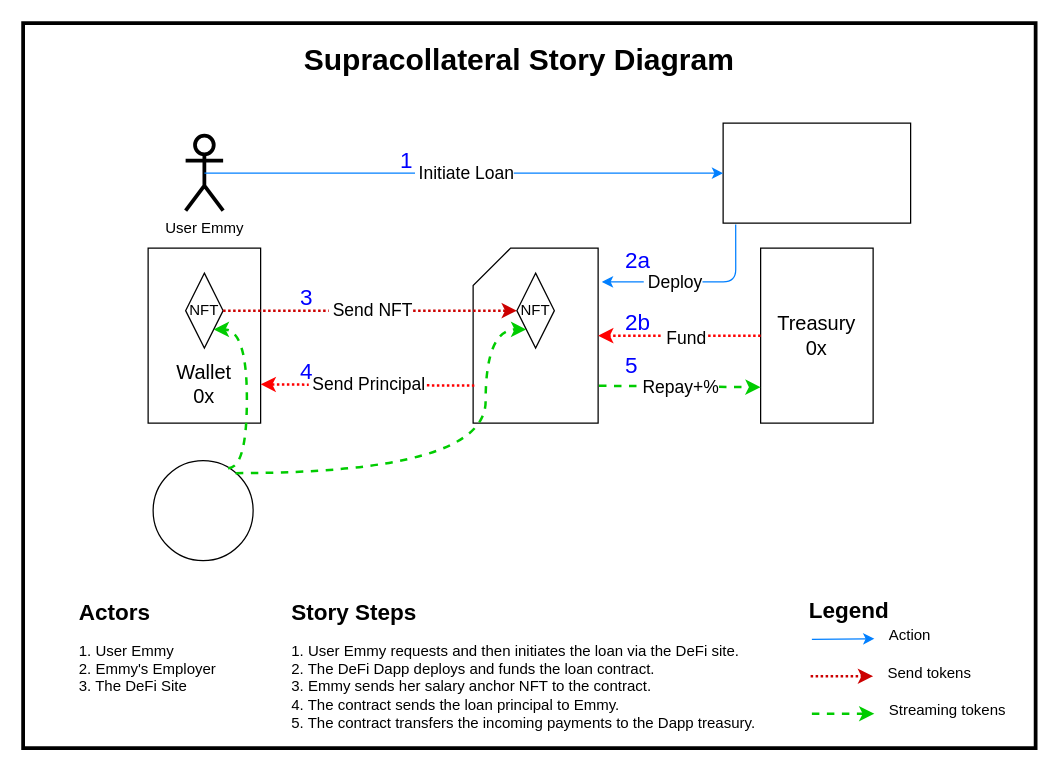
Image size: 1059x771. Some labels were removed from this diagram. Each missing label, with the box of its shape:
DeFi Dapp https: (722, 122, 911, 223)
Employer: (152, 459, 253, 561)
Loan Contract {}: (472, 247, 598, 423)
